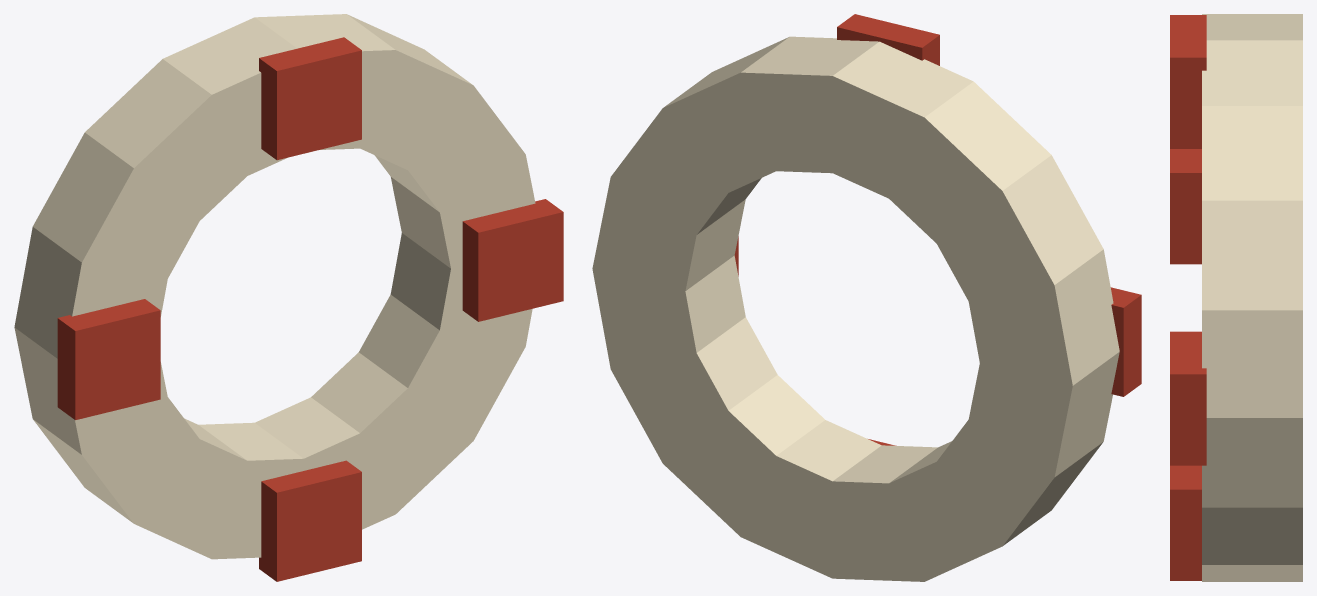
The model's file is main_dock_kit__life_ring.glb.
The picture shows the model from 3 angles, left to right: view 1: azimuth 30°, elevation 25°; view 2: azimuth 150°, elevation 25°; view 3: azimuth 270°, elevation 25°; orthographic projection. The views are drawn at different scales.
Parts seen in each view (by area): view 1: life_ring__cream.002, life_ring__red.002; view 2: life_ring__cream.002, life_ring__red.002; view 3: life_ring__cream.002, life_ring__red.002.
Boxes of the visible parts, x1,y1,x2,y2 form: life_ring__cream.002: (14,14,535,559); life_ring__red.002: (57,37,563,581); life_ring__cream.002: (592,36,1119,581); life_ring__red.002: (734,14,1141,445); life_ring__cream.002: (1202,14,1302,581); life_ring__red.002: (1170,15,1206,580).
Bounding box in the file's own units: 0.63 × 0.63 × 0.145.
